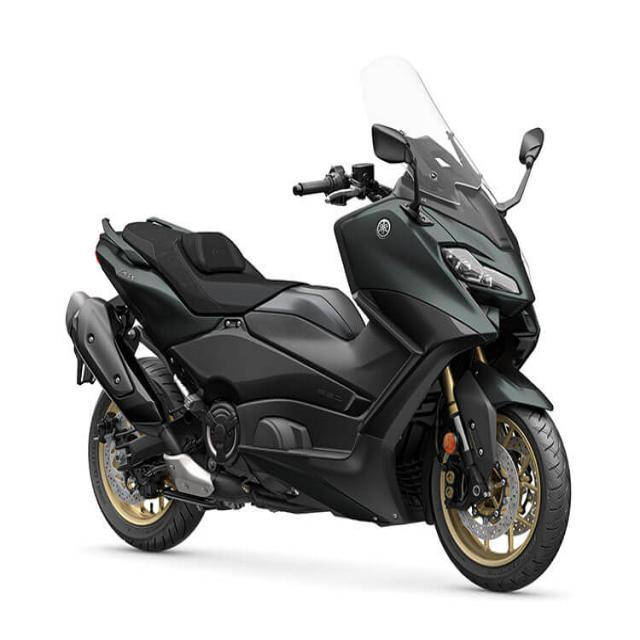Motorcycle: (65, 59, 571, 591)
